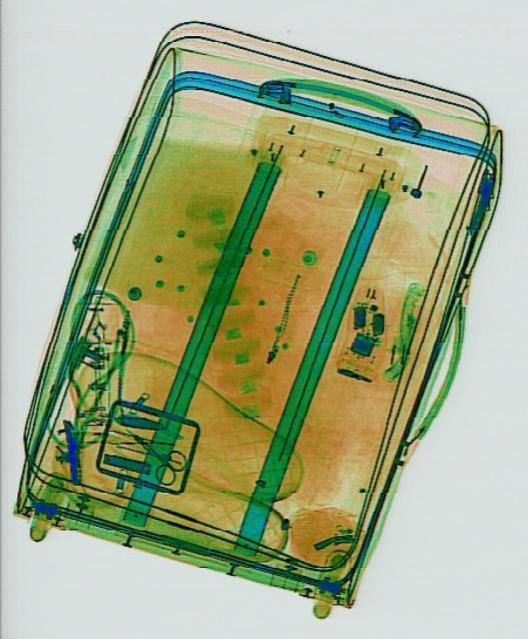Scissors: (113, 414, 188, 488)
